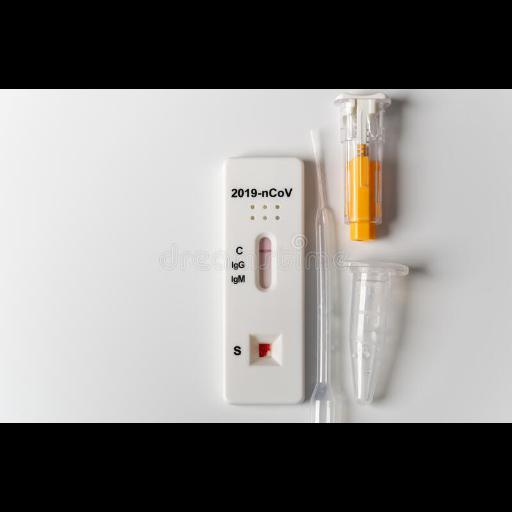Neg: (222, 156, 304, 402)
